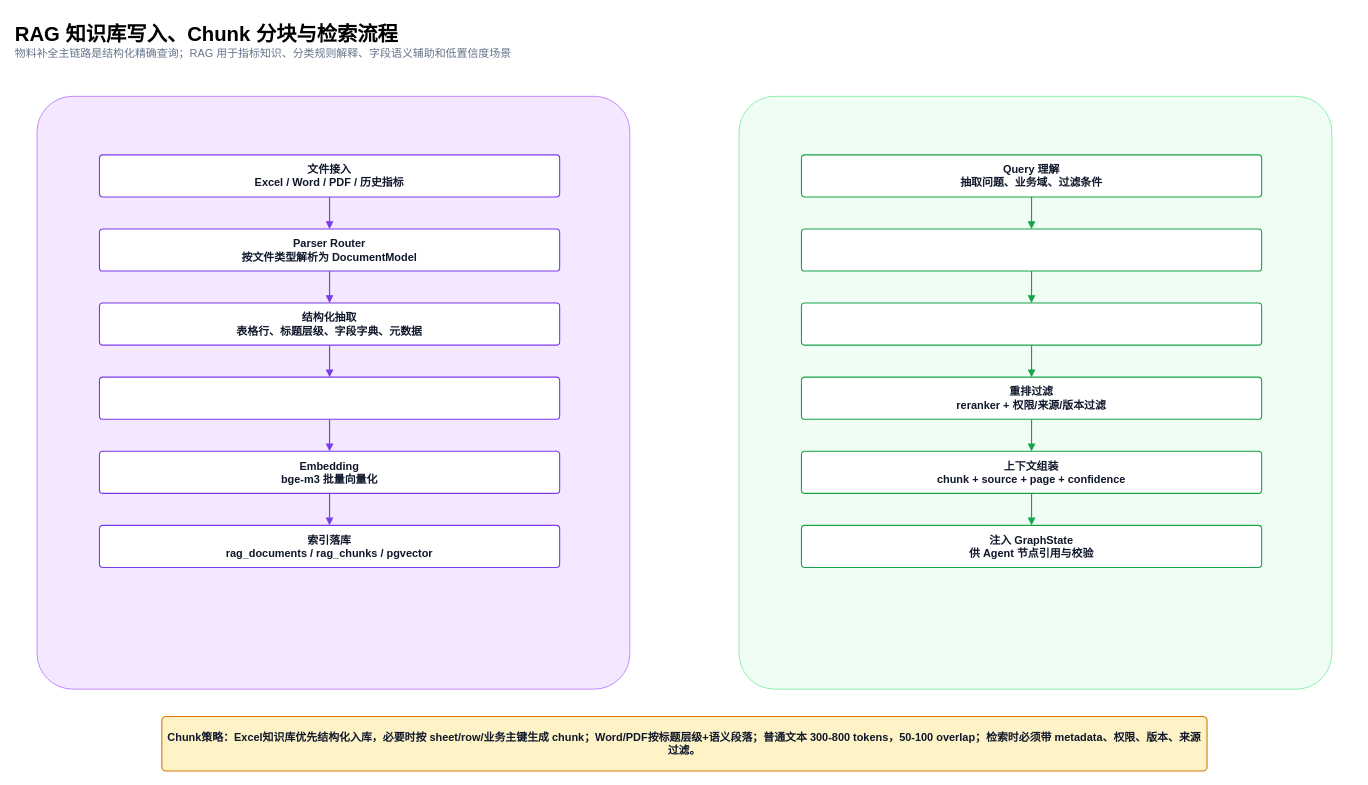
Some shapes in this 1368 by 785 pixel diagram are drawn without their labels. Each missing label, with the box of its shape:
Chunk 分块 标题层级/表格行/语义段落/Token窗口: (99, 376, 560, 419)
候选召回 pgvector topK + metadata filter: (801, 302, 1262, 345)
检索路由 结构化过滤 / 向量召回 / 混合检索: (801, 228, 1262, 271)
知识写入链路: (36, 95, 630, 689)
知识检索链路: (738, 95, 1332, 689)
